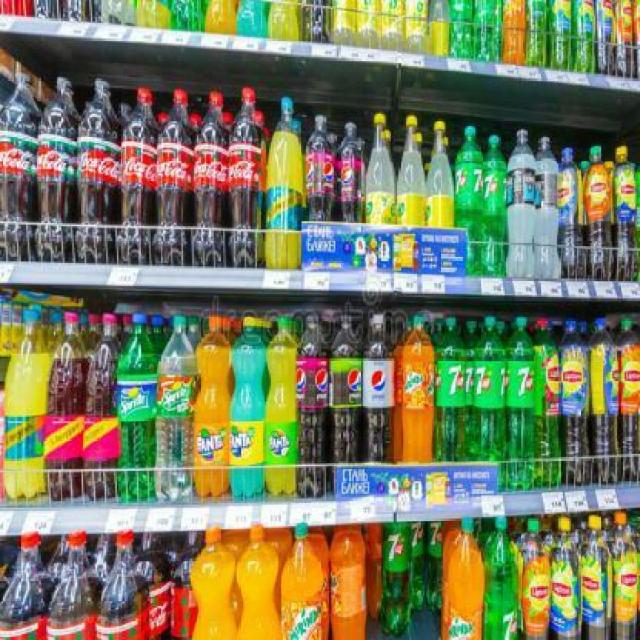Drinks: (78, 78, 119, 264), (37, 76, 78, 262), (117, 312, 157, 500), (156, 315, 196, 499), (0, 71, 37, 262), (228, 85, 266, 268), (192, 90, 230, 267), (120, 88, 158, 264), (157, 88, 194, 266), (196, 316, 232, 498), (231, 316, 266, 498), (294, 314, 328, 498), (266, 318, 296, 497), (506, 317, 536, 491), (328, 316, 362, 464), (362, 315, 396, 462), (473, 317, 505, 461), (454, 124, 484, 276), (483, 517, 520, 638), (433, 317, 464, 461), (379, 524, 412, 639), (305, 114, 337, 221), (484, 135, 508, 276), (336, 121, 367, 222)
